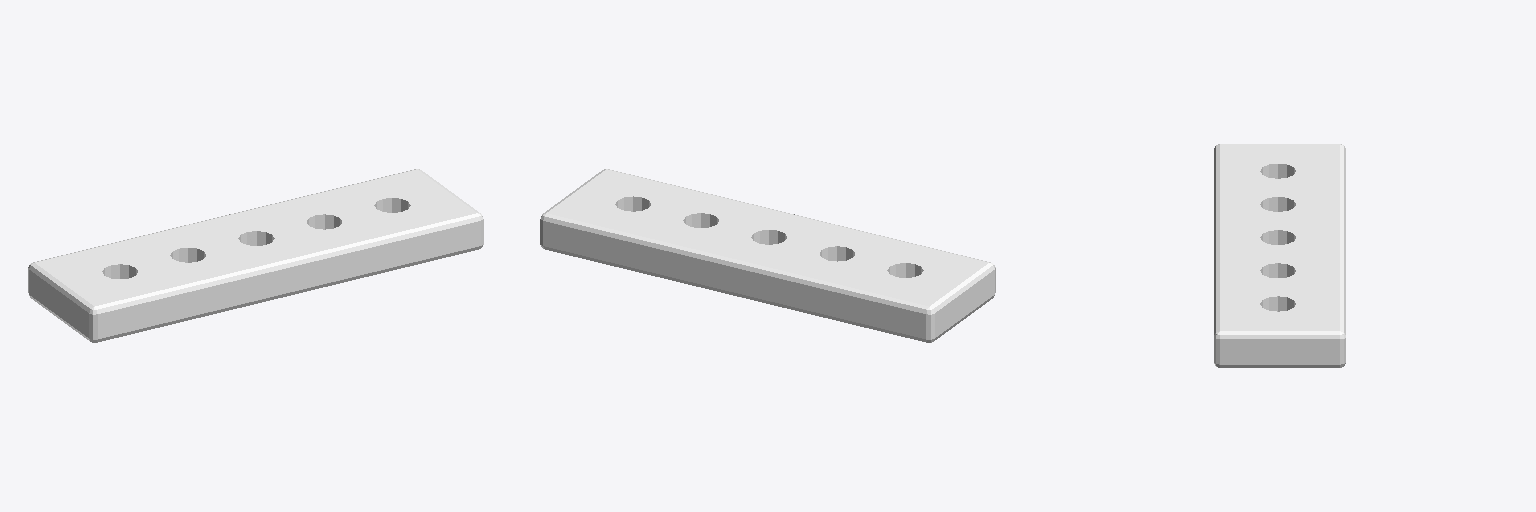
The model's file is SpikeTrap.obj.
3 renders of one model, left to right at view 1: azimuth 30°, elevation 25°; view 2: azimuth 150°, elevation 25°; view 3: azimuth 270°, elevation 25°, orthographic.
Parts seen in each view (by area): view 1: ChamferBox001; view 2: ChamferBox001; view 3: ChamferBox001.
Part boxes in pixels (x1,y1,x2,y2): ChamferBox001: (28,169,483,342); ChamferBox001: (540,169,995,342); ChamferBox001: (1214,144,1345,367).
Bounding box in the file's own units: 1 × 0.0884 × 0.2925.